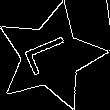L_NE: (21, 33, 81, 81)
